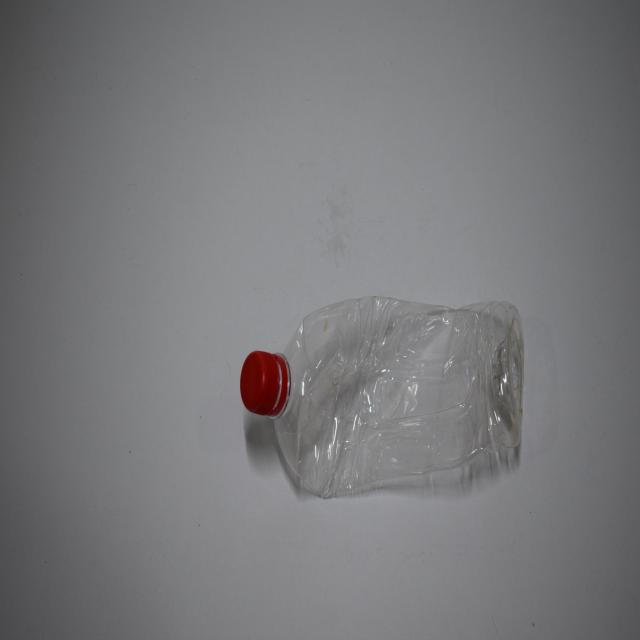bottle: (228, 292, 538, 503)
